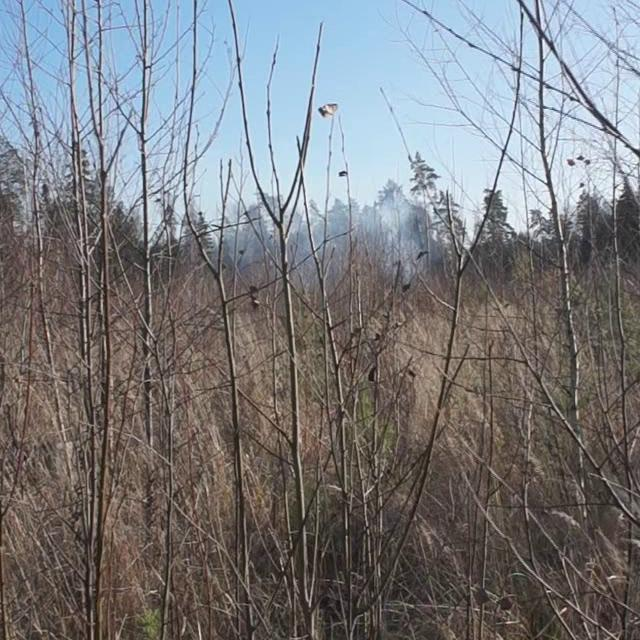Smoke: (220, 186, 432, 294)
